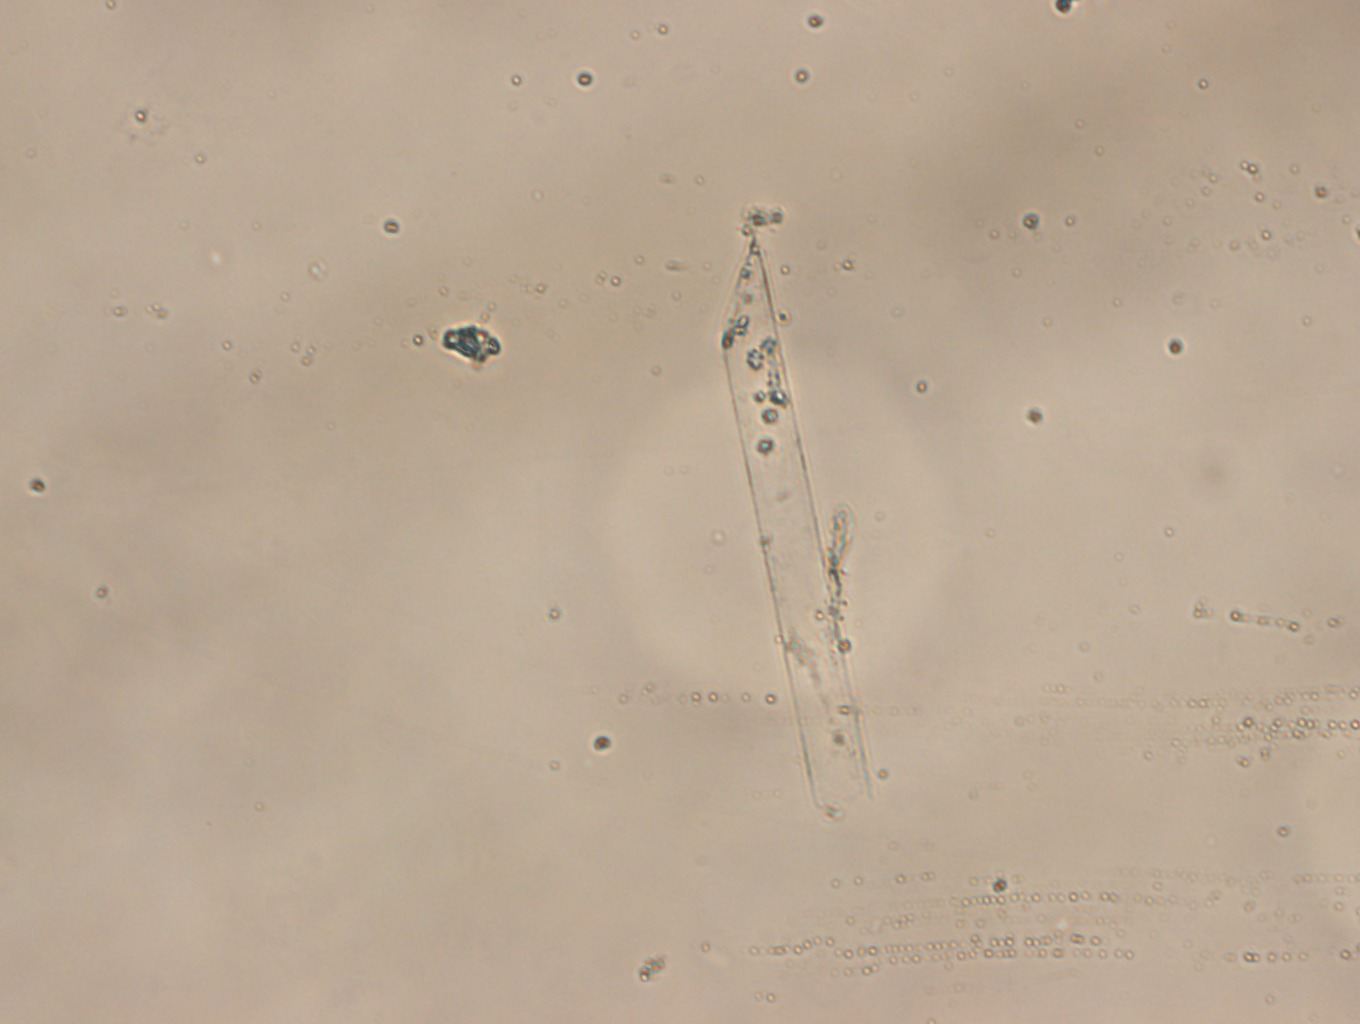rhizosolenia: (720, 234, 870, 812)
